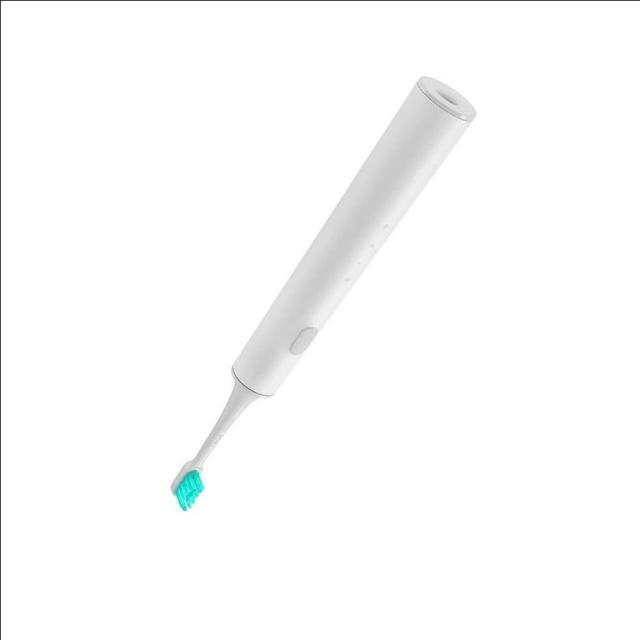toothbrush: (74, 82, 520, 562)
